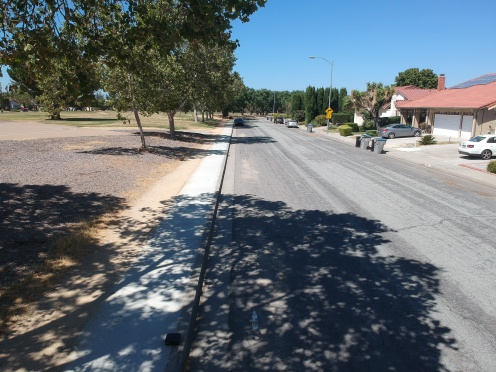bottle: (247, 308, 263, 334)
